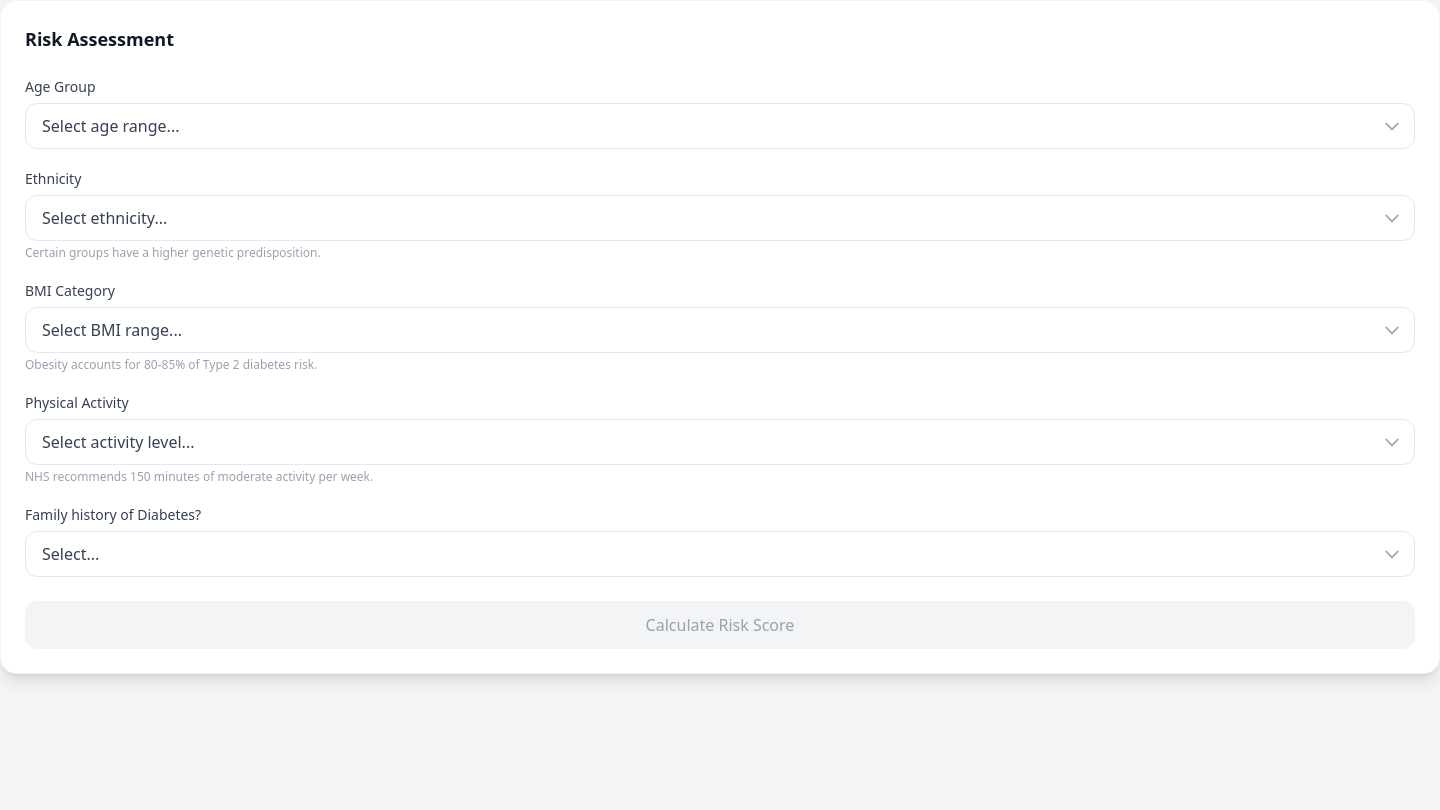
DiabetesRiskAssessment Component › shows the correct Low Risk output on submit
# Fill out form with lowest risk scores
Select "Under 25" in the dropdown labelled "Age Group": (720, 126) [25,103,1415,149]
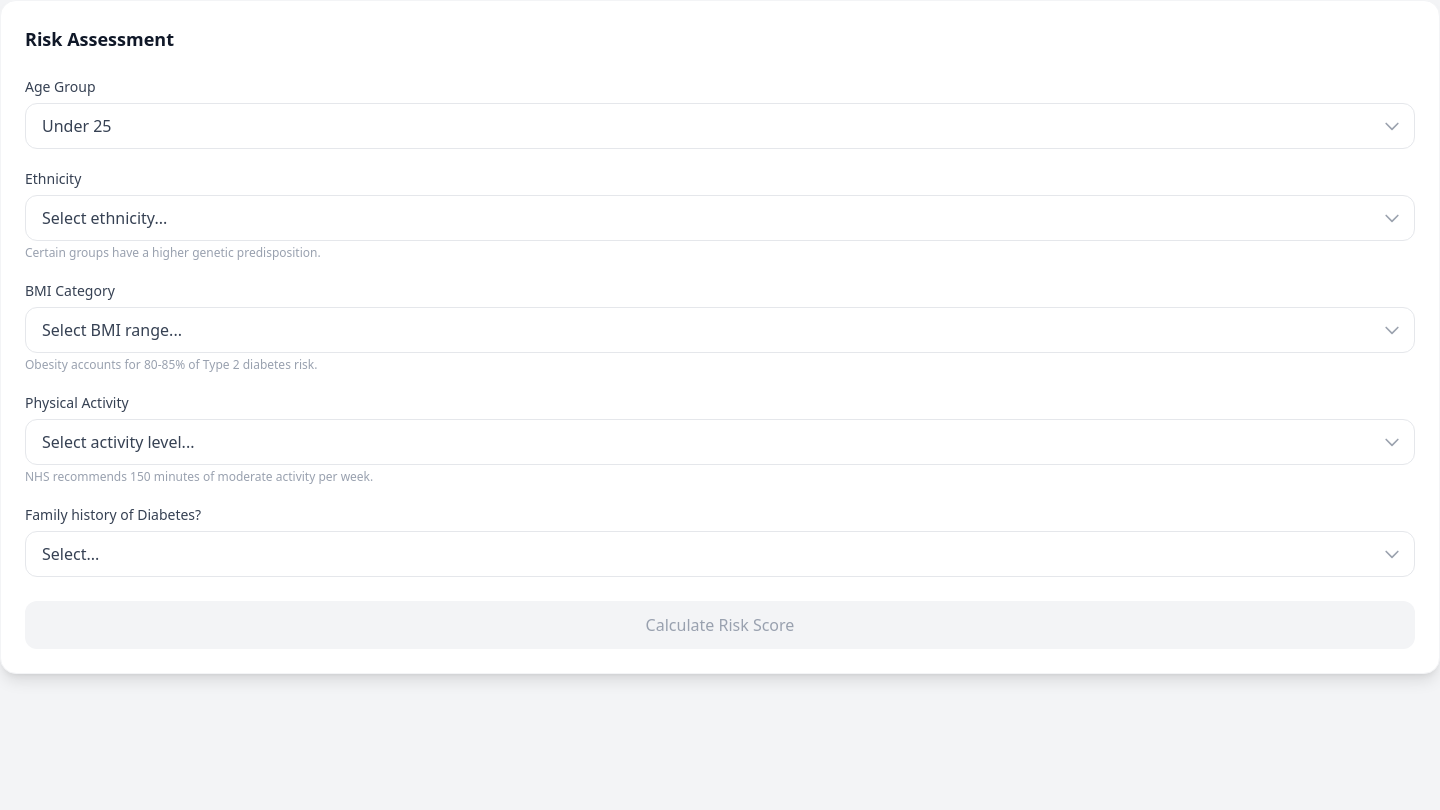
Select "White" in the dropdown labelled "Ethnicity": (720, 218) [25,195,1415,241]
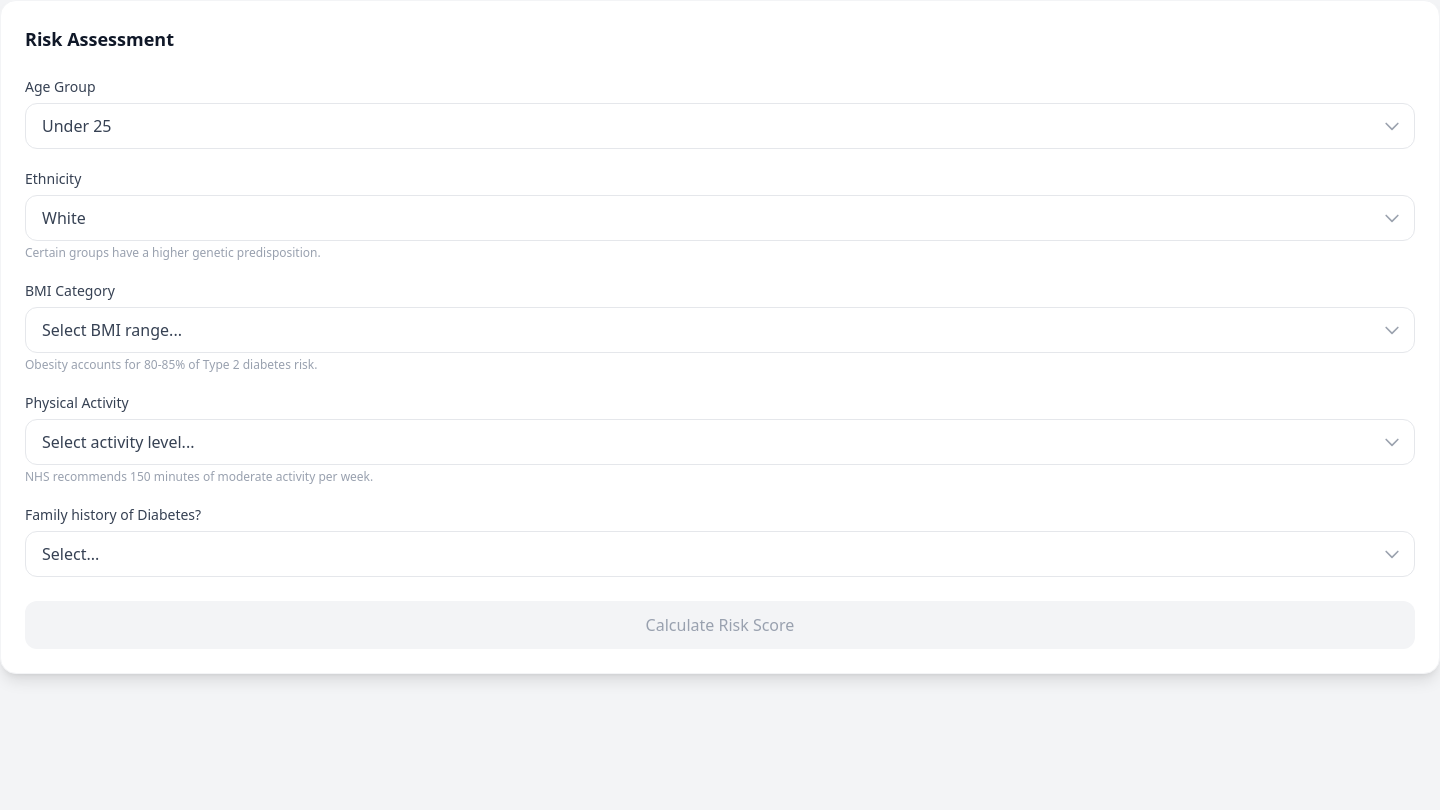
Select "Healthy (under 25)" in the dropdown labelled "BMI Category": (720, 330) [25,307,1415,353]
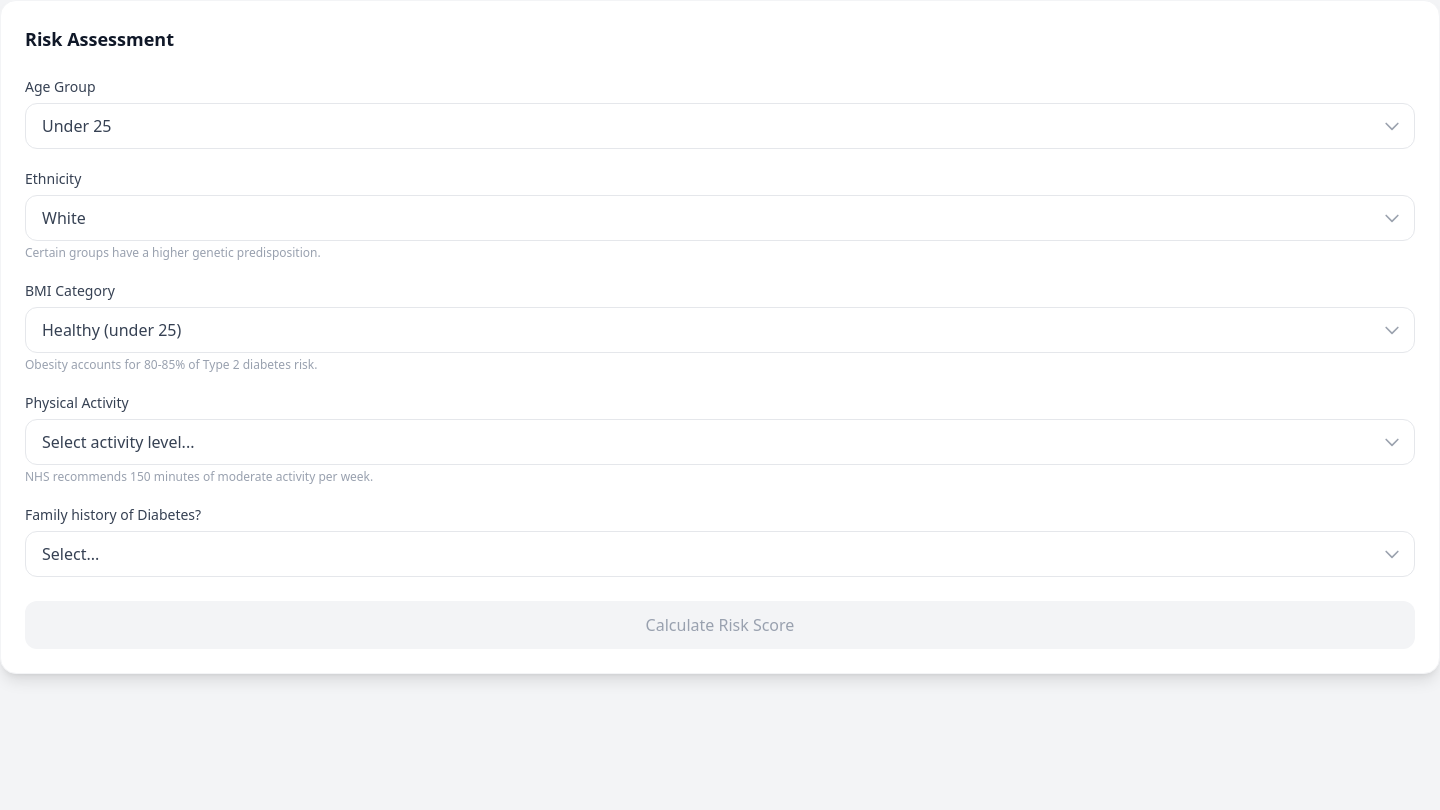
Select "150+ minutes per week" in the dropdown labelled "Physical Activity": (720, 442) [25,419,1415,465]
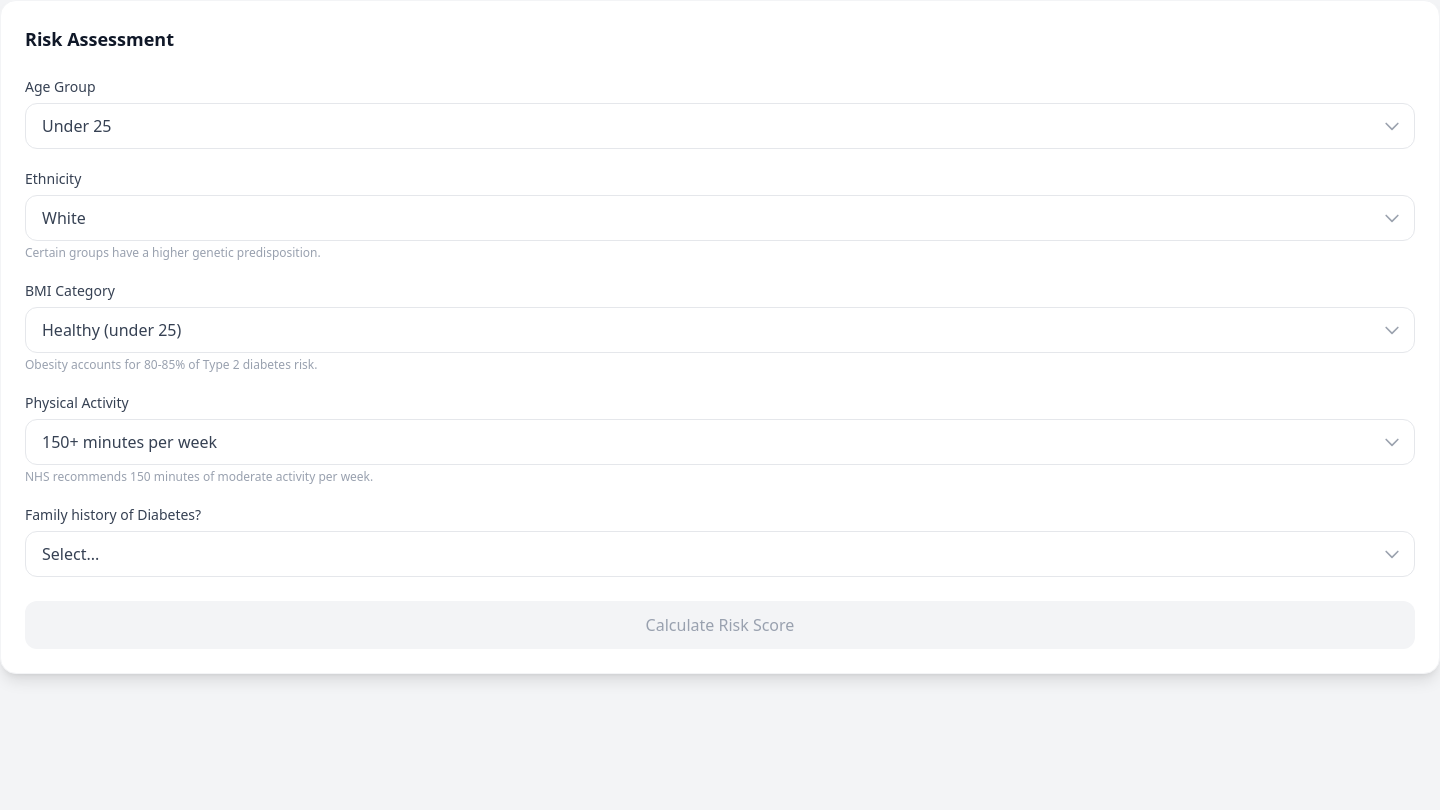
Select "No family history" in the dropdown labelled "Family history of Diabetes?": (720, 554) [25,531,1415,577]
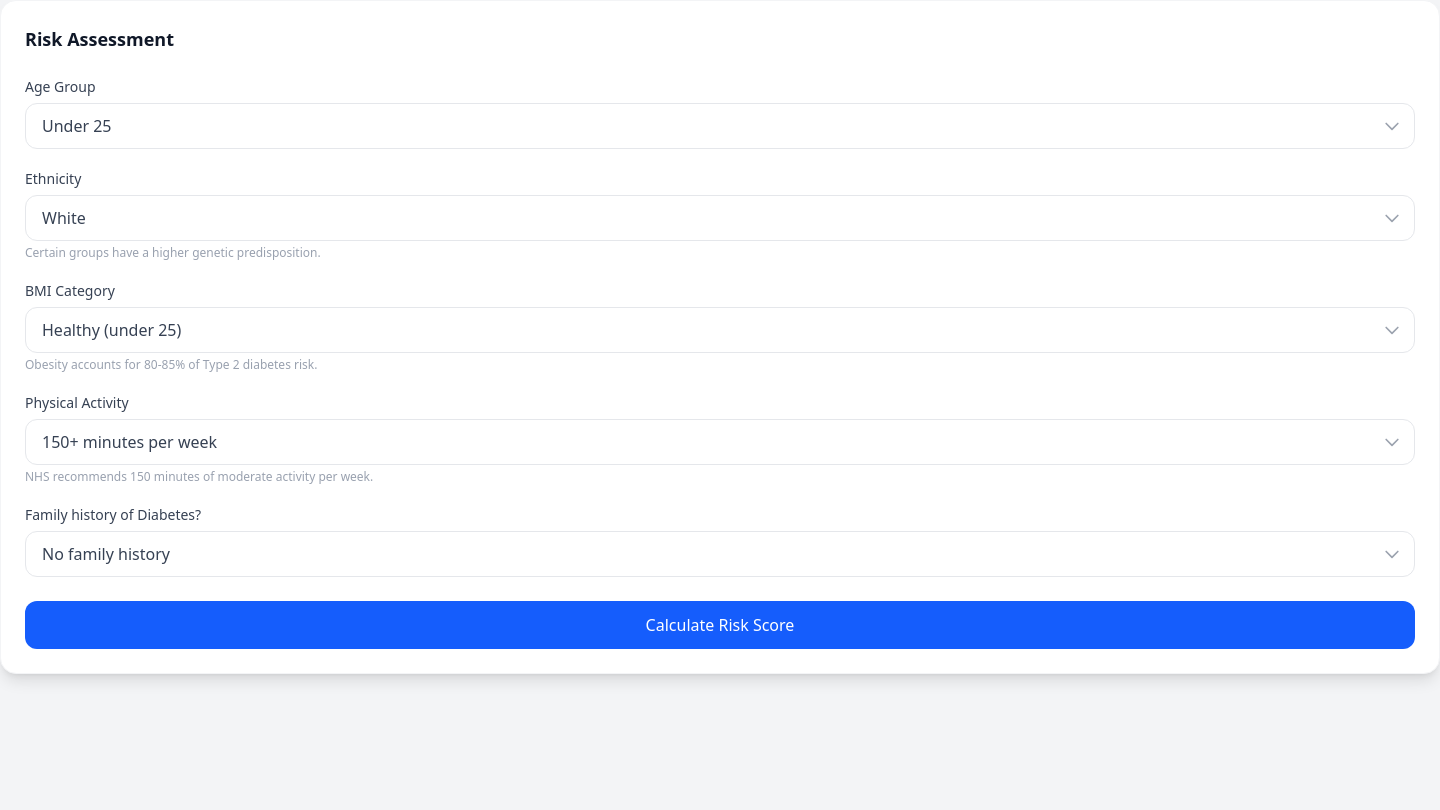
# Click sumbit
Click the button "Calculate Risk Score": (720, 625) [25,601,1415,649]
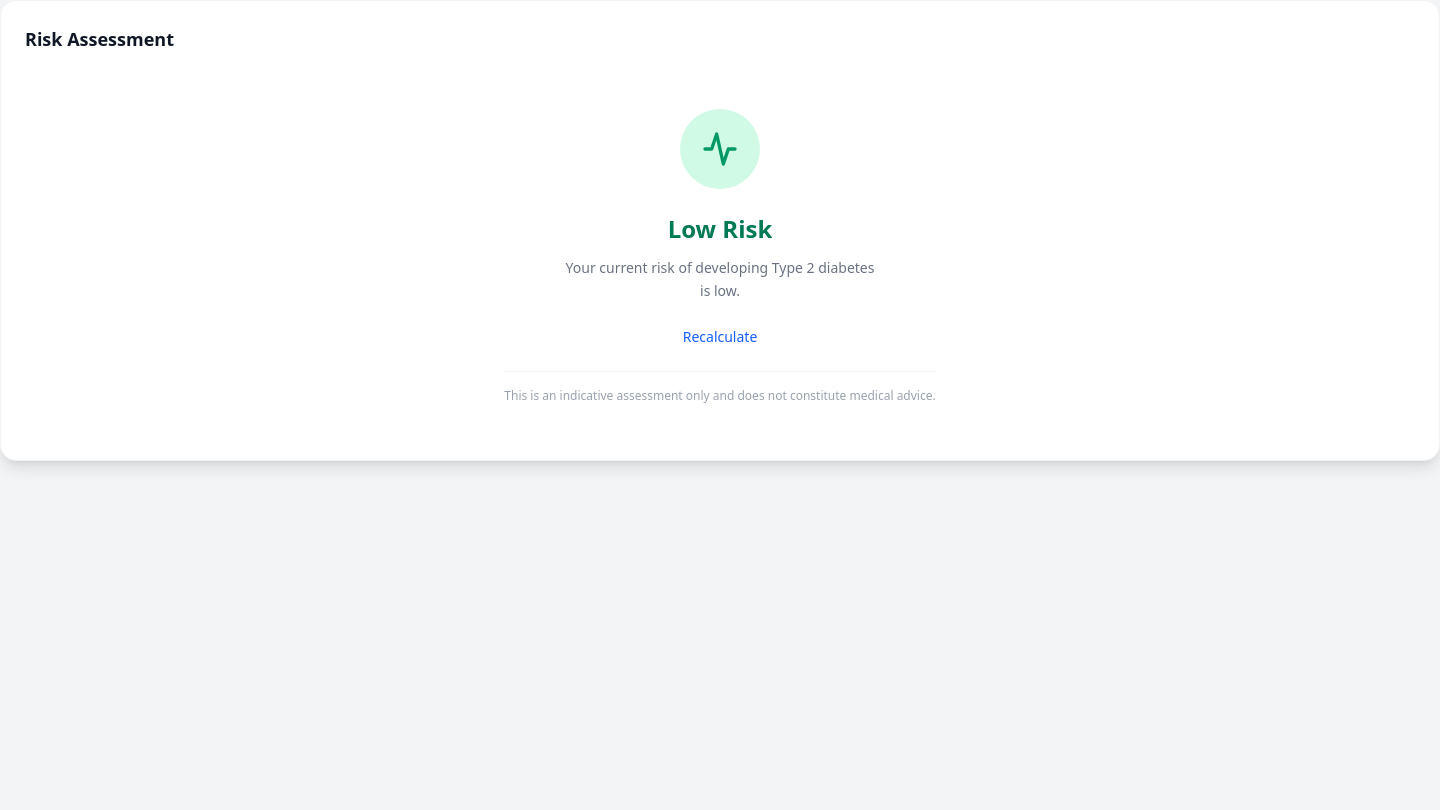
Expected: the heading "Low Risk" is shown, [668,213,772,245]
Expected: the text "Your current risk of developing Type 2 diabetes is low." is shown, [560,257,880,302]
